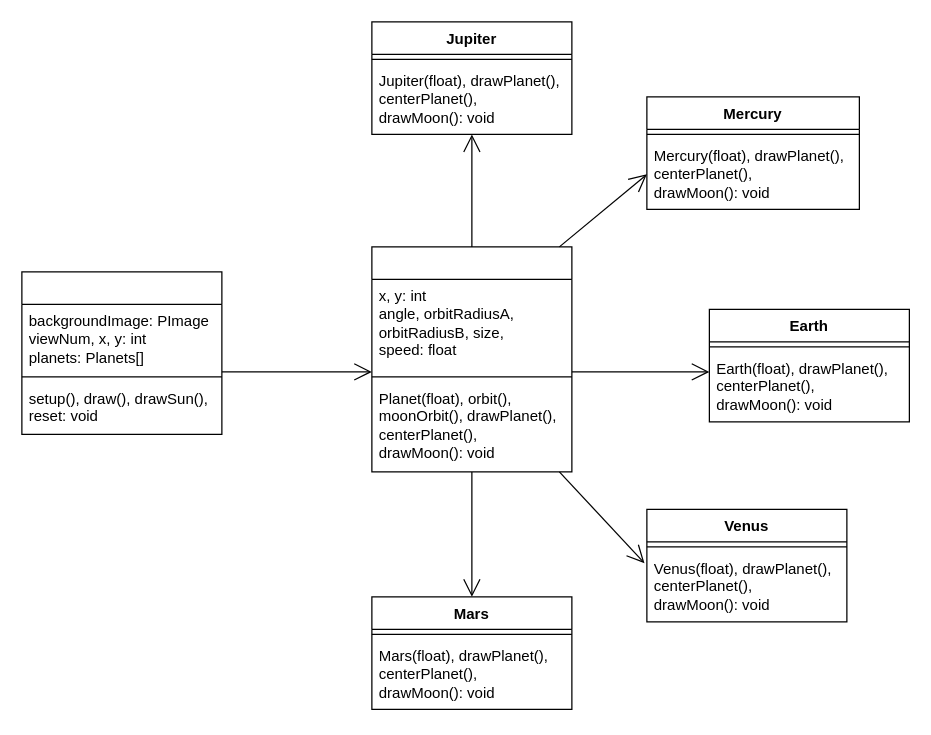
The diagram is 931 pixels wide and 735 high, and some of its shapes have lost their labels. Here are the shapes that lost their labels. From the top down, the box of each, then its label:
(21, 271, 222, 434): Solar System
(371, 246, 572, 472): Planets
